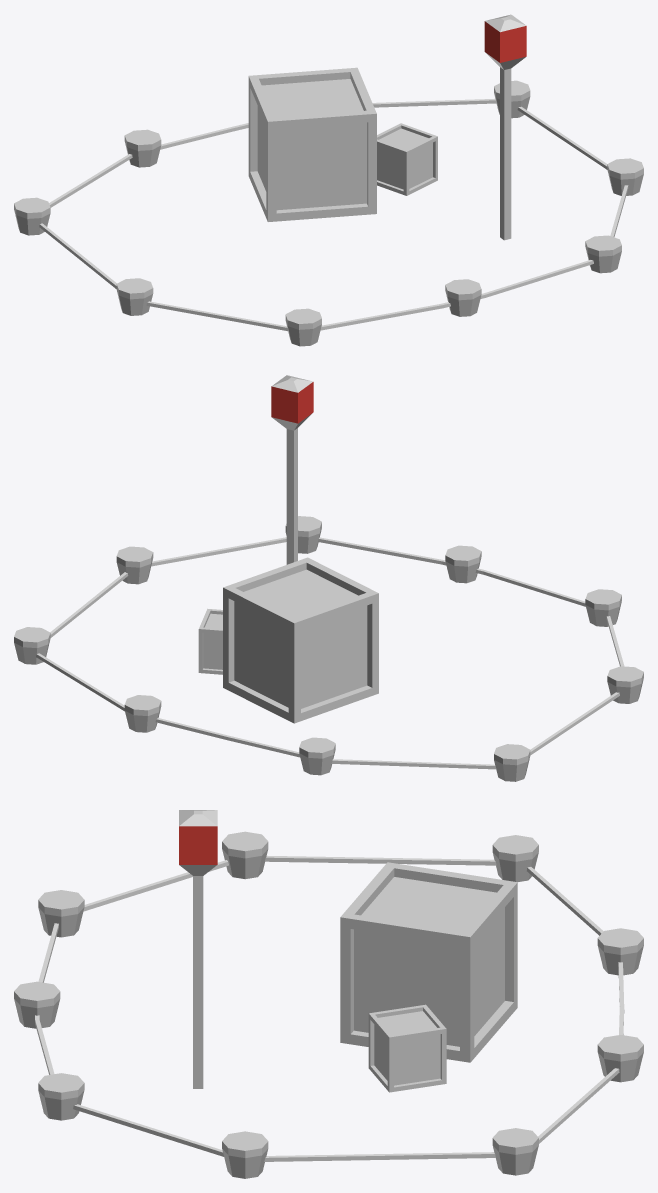
File: house-construction_00.fbx
The picture shows the model from 3 angles, top to bottom: view 1: azimuth 30°, elevation 25°; view 2: azimuth 150°, elevation 25°; view 3: azimuth 270°, elevation 25°; orthographic projection. The views are drawn at different scales.
Parts seen in each view (by area): view 1: House-Construction_00; view 2: House-Construction_00; view 3: House-Construction_00.
Boxes of the visible parts, bbox=[...] form: House-Construction_00: bbox=[14, 14, 643, 346]; House-Construction_00: bbox=[14, 375, 643, 781]; House-Construction_00: bbox=[14, 810, 643, 1178].
Size of the model in its own units: 1091 by 438 by 910.
